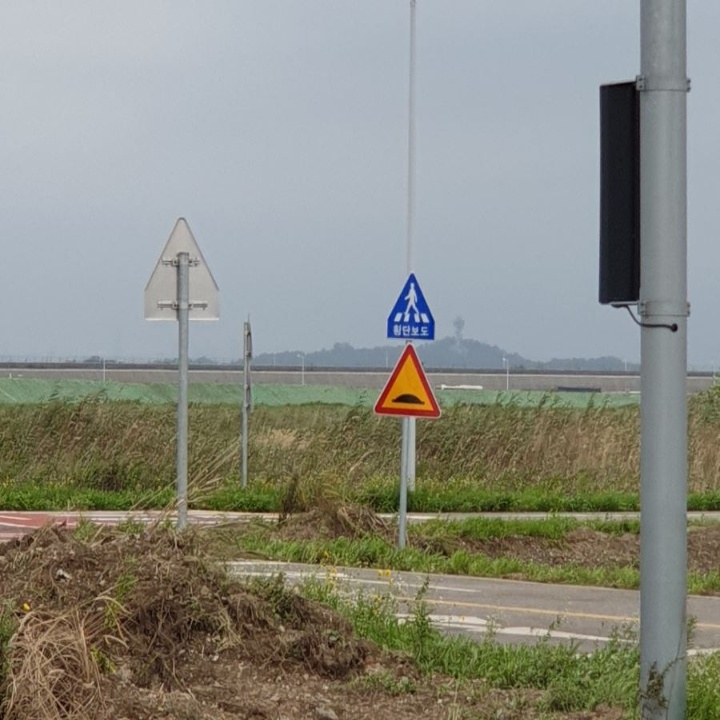bump: (379, 345, 442, 417)
cross: (401, 278, 425, 320)
